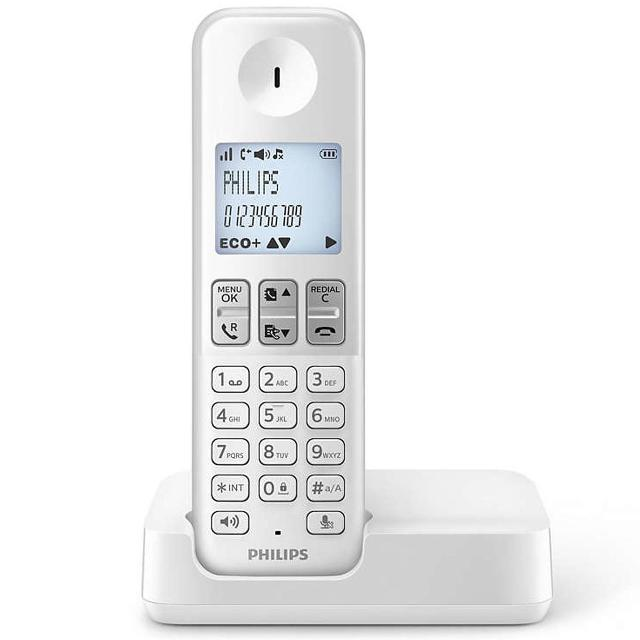Telephone-Set: (142, 3, 564, 630)
